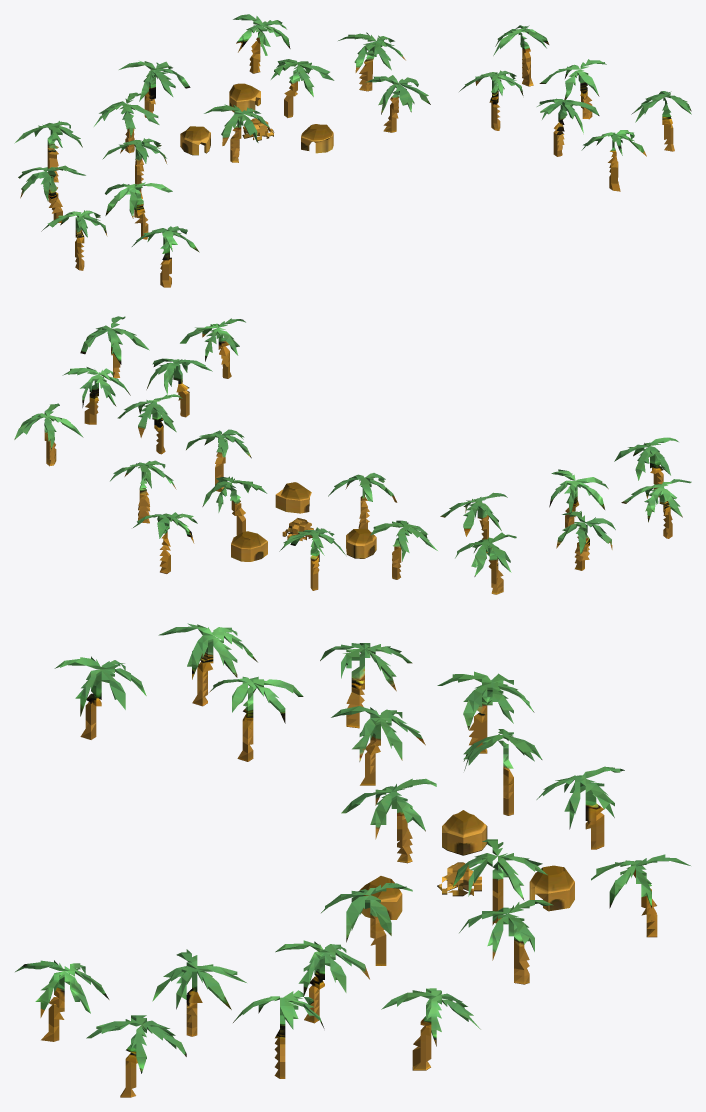
The model's file is MapVil.glb.
The picture shows the model from 3 angles, top to bottom: view 1: azimuth 30°, elevation 25°; view 2: azimuth 150°, elevation 25°; view 3: azimuth 270°, elevation 25°; orthographic projection. The views are drawn at different scales.
Visible parts, largest first — view 1: MapVil; view 2: MapVil; view 3: MapVil.
Part boxes in pixels (x1,y1,x2,y2): MapVil: (14,14,691,287); MapVil: (14,316,691,594); MapVil: (15,623,690,1097).
Size of the model in its own units: 336 by 28.14 by 224.
Materials: 1 (1 with a texture image).
